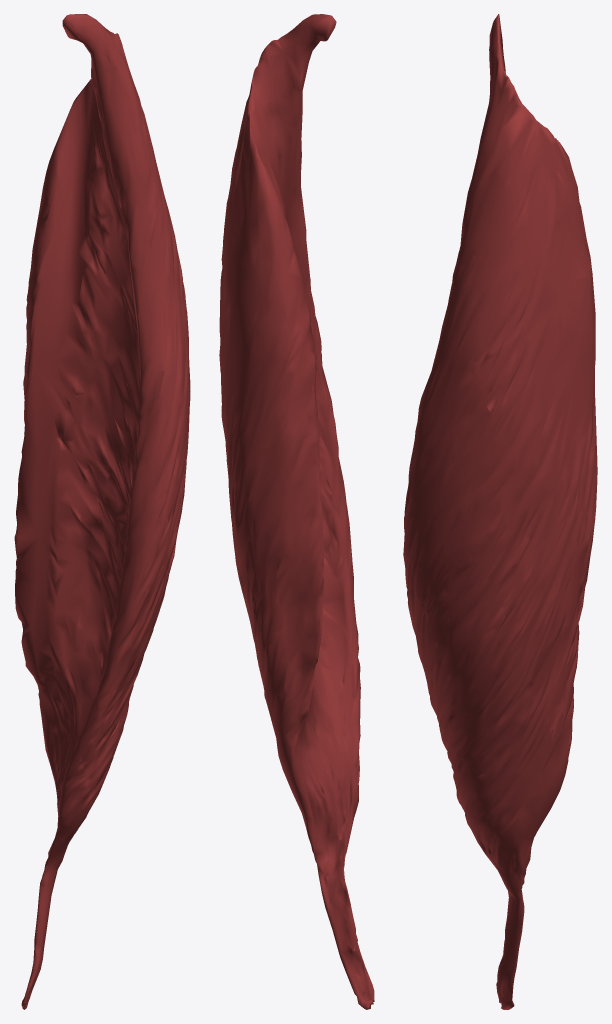
The model's file is vastus-lateralis-muscle-l.glb.
3 renders of one model, left to right at view 1: azimuth 30°, elevation 25°; view 2: azimuth 150°, elevation 25°; view 3: azimuth 270°, elevation 25°, orthographic. The views are drawn at different scales.
Visible parts, largest first — view 1: Vastus lateralis muscle.l; view 2: Vastus lateralis muscle.l; view 3: Vastus lateralis muscle.l.
Boxes of the visible parts, x1,y1,x2,y2 form: Vastus lateralis muscle.l: [14, 14, 190, 1009]; Vastus lateralis muscle.l: [219, 14, 374, 1009]; Vastus lateralis muscle.l: [403, 14, 597, 1009].
Size of the model in its own units: 0.074 by 0.4574 by 0.0792.
